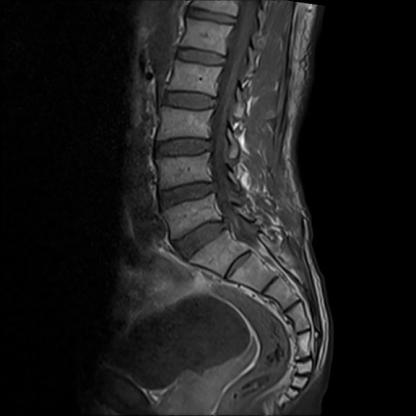Disc Bulgerotation: (168, 222, 240, 252)
